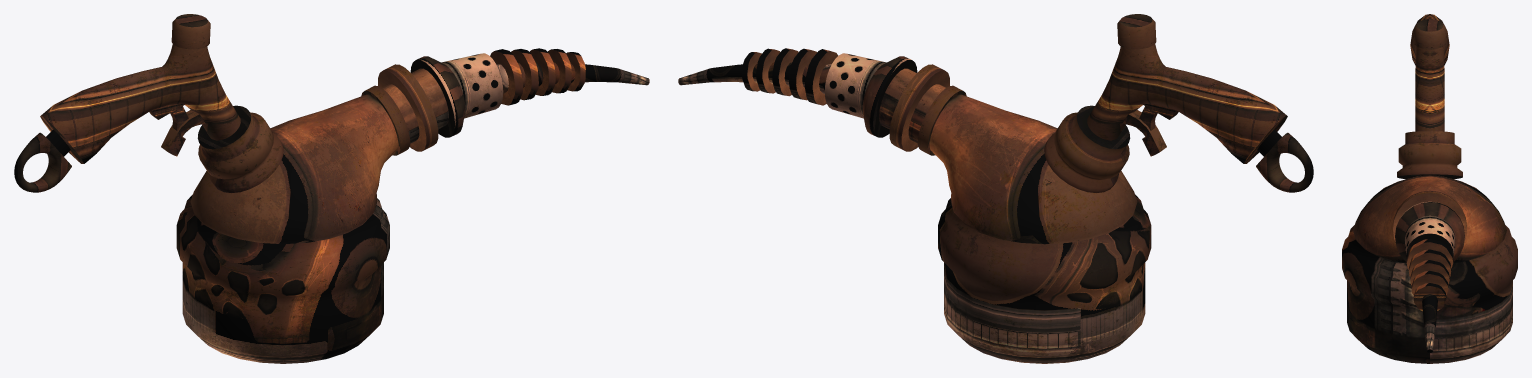
File: oil.DAE
3 views of the same model, side by side, from view 1: azimuth 30°, elevation 25°; view 2: azimuth 150°, elevation 25°; view 3: azimuth 270°, elevation 25° (orthographic). The views are drawn at different scales.
Parts seen in each view (by area): view 1: Basic_Oil_Can, Basic_Oil_Can_Optimized; view 2: Basic_Oil_Can, Basic_Oil_Can_Optimized; view 3: Basic_Oil_Can, Basic_Oil_Can_Optimized.
Part boxes in pixels (x1,y1,x2,y2): Basic_Oil_Can: (14, 14, 649, 363); Basic_Oil_Can_Optimized: (40, 48, 585, 160); Basic_Oil_Can: (678, 14, 1313, 363); Basic_Oil_Can_Optimized: (742, 48, 1284, 160); Basic_Oil_Can: (1342, 14, 1517, 363); Basic_Oil_Can_Optimized: (1393, 60, 1462, 311).
Size of the model in its own units: 58.39 by 17 by 29.
1 material, 1 textured.
